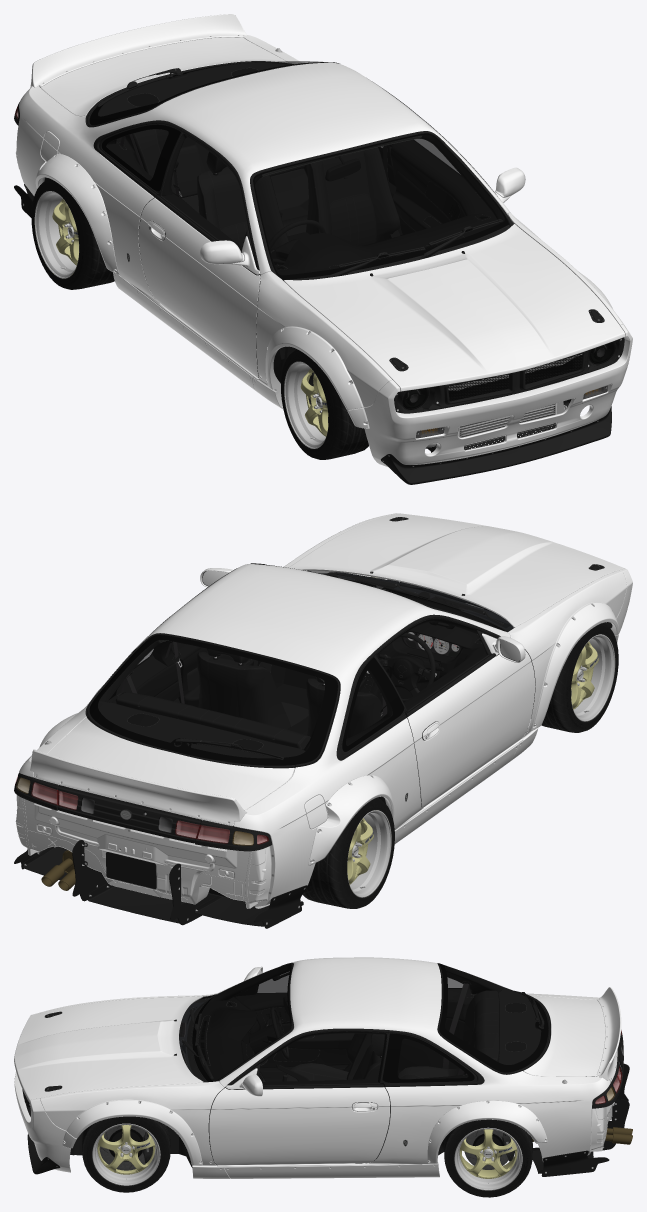
Rendered from 2015_rocket_bunnys_nissan_silvia_s14_v2_boss.glb.
3 renders of one model, top to bottom at view 1: azimuth 30°, elevation 25°; view 2: azimuth 150°, elevation 25°; view 3: azimuth 270°, elevation 25°, orthographic. The views are drawn at different scales.
Visible parts, largest first — view 1: RB:M_CarPaint_Max, RB:M_Glass_WindowFront_Max, RB:M_Interior_Max, RB:M_Opaque_PlasticRoughBlack_Max, RB:M_Glass_WindowSurroundLeft_Max, RB:M_Opaque_PlasticSmoothBlack_Max, wheels_rb:polySurface475_wheels_rb:RB:Nissan_240SXRocketBunn, wheels_rb:polySurface1427_wheels_rb:RB:Nissan_240SXRocketBun, RB:M_Chassis_Max, Mesh2_Rim_C1_0, Mesh_Rim_C1_0, RB:M_GrilleB_Max (+4 smaller); view 2: RB:M_CarPaint_Max, RB:M_Glass_WindowFront_Max, RB:M_Interior_Max, RB:M_CarPaint_Trim_MetallicBlack_Max, RB:M_Opaque_PlasticRoughBlack_Max, RB:M_Glass_WindowSurroundLeft_Max, RB:M_Opaque_PlasticSmoothBlack_Max, wheels_rb:polySurface1427_wheels_rb:RB:Nissan_240SXRocketBun, wheels_rb:polySurface475_wheels_rb:RB:Nissan_240SXRocketBunn, RB:M_LBucket_Max, Mesh2_Rim_C1_0, Mesh_Rim_C1_0 (+7 smaller); view 3: RB:M_CarPaint_Max, RB:M_Glass_WindowFront_Max, RB:M_Interior_Max, RB:M_Glass_WindowSurroundLeft_Max, RB:M_Opaque_PlasticSmoothBlack_Max, wheels_rb:polySurface1_wheels_rb:RB:Nissan_240SXRocketBunnyB, wheels_rb:polySurface949_wheels_rb:RB:Nissan_240SXRocketBunn, RB:M_Opaque_PlasticRoughBlack_Max, rbrimND:Mesh, RB:M_CarPaint_Trim_MetallicBlack_Max, Mesh1_RimColor_2_0, Mesh1_Rim_C1_0 (+4 smaller).
Part boxes in pixels (x1=…): RB:M_CarPaint_Max: x1=15, y1=14, x2=632, y2=467; RB:M_Glass_WindowFront_Max: x1=98, y1=61, x2=504, y2=274; RB:M_Interior_Max: x1=98, y1=63, x2=504, y2=375; RB:M_Opaque_PlasticRoughBlack_Max: x1=14, y1=102, x2=624, y2=484; RB:M_Glass_WindowSurroundLeft_Max: x1=89, y1=62, x2=508, y2=279; RB:M_Opaque_PlasticSmoothBlack_Max: x1=85, y1=61, x2=497, y2=270; wheels_rb:polySurface475_wheels_rb:RB:Nissan_240SXRocketBunn: x1=281, y1=349, x2=368, y2=459; wheels_rb:polySurface1427_wheels_rb:RB:Nissan_240SXRocketBun: x1=31, y1=178, x2=114, y2=289; RB:M_Chassis_Max: x1=44, y1=177, x2=582, y2=452; Mesh2_Rim_C1_0: x1=34, y1=191, x2=79, y2=278; Mesh_Rim_C1_0: x1=284, y1=361, x2=328, y2=448; RB:M_GrilleB_Max: x1=448, y1=354, x2=582, y2=401; RB:M_CarPaint_Max: x1=15, y1=513, x2=632, y2=908; RB:M_Glass_WindowFront_Max: x1=98, y1=572, x2=501, y2=757; RB:M_Interior_Max: x1=98, y1=592, x2=498, y2=807; RB:M_CarPaint_Trim_MetallicBlack_Max: x1=14, y1=840, x2=307, y2=928; RB:M_Opaque_PlasticRoughBlack_Max: x1=14, y1=517, x2=612, y2=851; RB:M_Glass_WindowSurroundLeft_Max: x1=89, y1=615, x2=505, y2=765; RB:M_Opaque_PlasticSmoothBlack_Max: x1=85, y1=568, x2=500, y2=768; wheels_rb:polySurface1427_wheels_rb:RB:Nissan_240SXRocketBun: x1=302, y1=797, x2=394, y2=908; wheels_rb:polySurface475_wheels_rb:RB:Nissan_240SXRocketBunn: x1=531, y1=622, x2=618, y2=732; RB:M_LBucket_Max: x1=15, y1=777, x2=268, y2=845; Mesh2_Rim_C1_0: x1=347, y1=810, x2=391, y2=897; Mesh_Rim_C1_0: x1=571, y1=634, x2=615, y2=721; RB:M_CarPaint_Max: x1=14, y1=957, x2=621, y2=1178; RB:M_Glass_WindowFront_Max: x1=197, y1=965, x2=540, y2=1084; RB:M_Interior_Max: x1=197, y1=965, x2=541, y2=1163; RB:M_Glass_WindowSurroundLeft_Max: x1=192, y1=964, x2=548, y2=1082; RB:M_Opaque_PlasticSmoothBlack_Max: x1=227, y1=963, x2=550, y2=1111; wheels_rb:polySurface1_wheels_rb:RB:Nissan_240SXRocketBunnyB: x1=82, y1=1116, x2=170, y2=1192; wheels_rb:polySurface949_wheels_rb:RB:Nissan_240SXRocketBunn: x1=444, y1=1119, x2=532, y2=1197; RB:M_Opaque_PlasticRoughBlack_Max: x1=22, y1=962, x2=623, y2=1174; rbrimND:Mesh: x1=92, y1=1123, x2=160, y2=1185; RB:M_CarPaint_Trim_MetallicBlack_Max: x1=532, y1=1063, x2=629, y2=1176; Mesh1_RimColor_2_0: x1=459, y1=1129, x2=517, y2=1178; Mesh1_Rim_C1_0: x1=454, y1=1127, x2=522, y2=1190.
Bounding box in the file's own units: 0.02 × 0.0122 × 0.0435.
28 materials, 11 textured.
